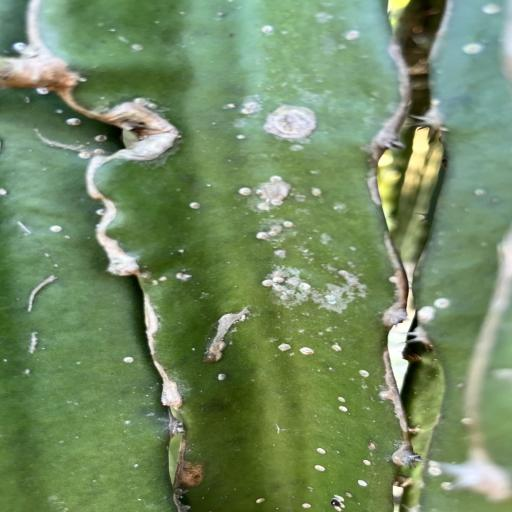stemcanker: (246, 334, 380, 508), (31, 84, 112, 162), (211, 98, 268, 150), (246, 217, 316, 259), (252, 264, 318, 307), (414, 456, 466, 498), (154, 264, 214, 296), (413, 300, 467, 332), (308, 166, 343, 214), (194, 372, 238, 398), (40, 221, 82, 246), (176, 190, 210, 214), (106, 352, 138, 377), (274, 340, 316, 358), (253, 16, 281, 38), (450, 42, 484, 60), (0, 181, 24, 206), (475, 4, 508, 22), (334, 26, 364, 44), (228, 174, 250, 198), (297, 344, 315, 358), (310, 462, 328, 476), (270, 247, 290, 259), (359, 456, 376, 470), (355, 368, 374, 380), (46, 224, 67, 234), (237, 186, 254, 198), (119, 355, 137, 366), (122, 352, 136, 366), (277, 342, 295, 352), (310, 446, 328, 456), (186, 202, 206, 211), (334, 405, 352, 414), (215, 373, 232, 382), (252, 496, 268, 505), (357, 478, 370, 488), (357, 368, 371, 377), (330, 344, 344, 353), (355, 478, 370, 486), (214, 373, 227, 382), (330, 344, 343, 353), (336, 395, 347, 404), (336, 396, 350, 403), (254, 498, 266, 505), (363, 458, 373, 466), (300, 502, 310, 510), (314, 465, 326, 471), (338, 406, 350, 412), (316, 447, 326, 454), (299, 503, 312, 508)
